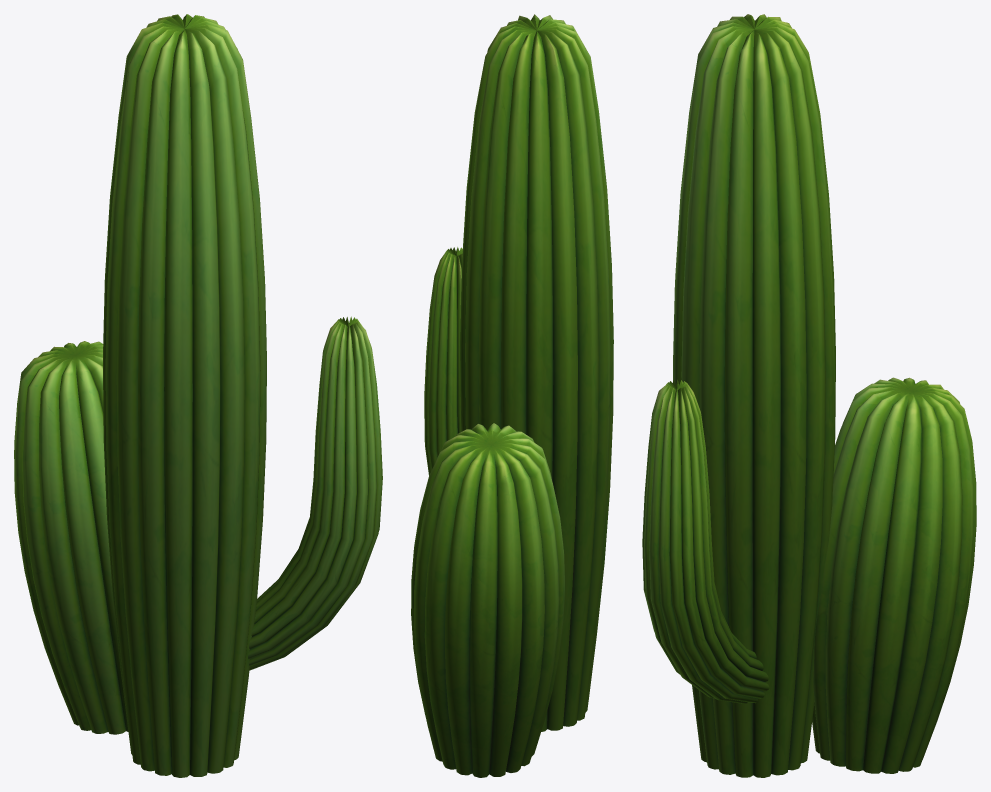
The model's file is DE_Cactus_35.fbx.
3 renders of one model, left to right at view 1: azimuth 30°, elevation 25°; view 2: azimuth 150°, elevation 25°; view 3: azimuth 270°, elevation 25°, orthographic. The views are drawn at different scales.
Parts seen in each view (by area): view 1: DE_Cactus_35; view 2: DE_Cactus_35; view 3: DE_Cactus_35.
Boxes of the visible parts, x1,y1,x2,y2 form: DE_Cactus_35: (14,14,382,777); DE_Cactus_35: (411,14,613,777); DE_Cactus_35: (642,14,976,777).
Size of the model in its own units: 1.12 by 3.23 by 1.33.
